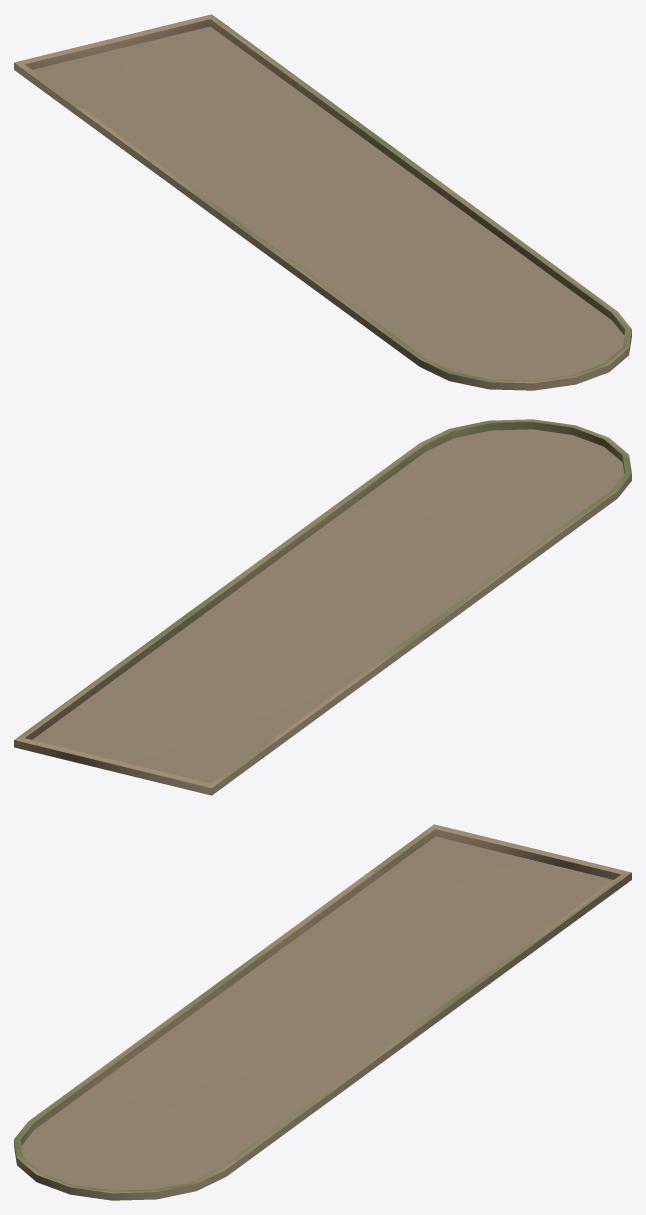
Rendered from Main_1005_obj_06.fbx.
3 renders of one model, top to bottom at view 1: azimuth 30°, elevation 25°; view 2: azimuth 150°, elevation 25°; view 3: azimuth 330°, elevation 25°, orthographic.
Parts seen in each view (by area): view 1: Circle.002; view 2: Circle.002; view 3: Circle.002.
Part boxes in pixels (<box>): Circle.002: <box>14,14,631,390</box>; Circle.002: <box>14,419,631,795</box>; Circle.002: <box>14,824,631,1200</box>.
Bounding box in the file's own units: 164 × 5.84 × 667.
